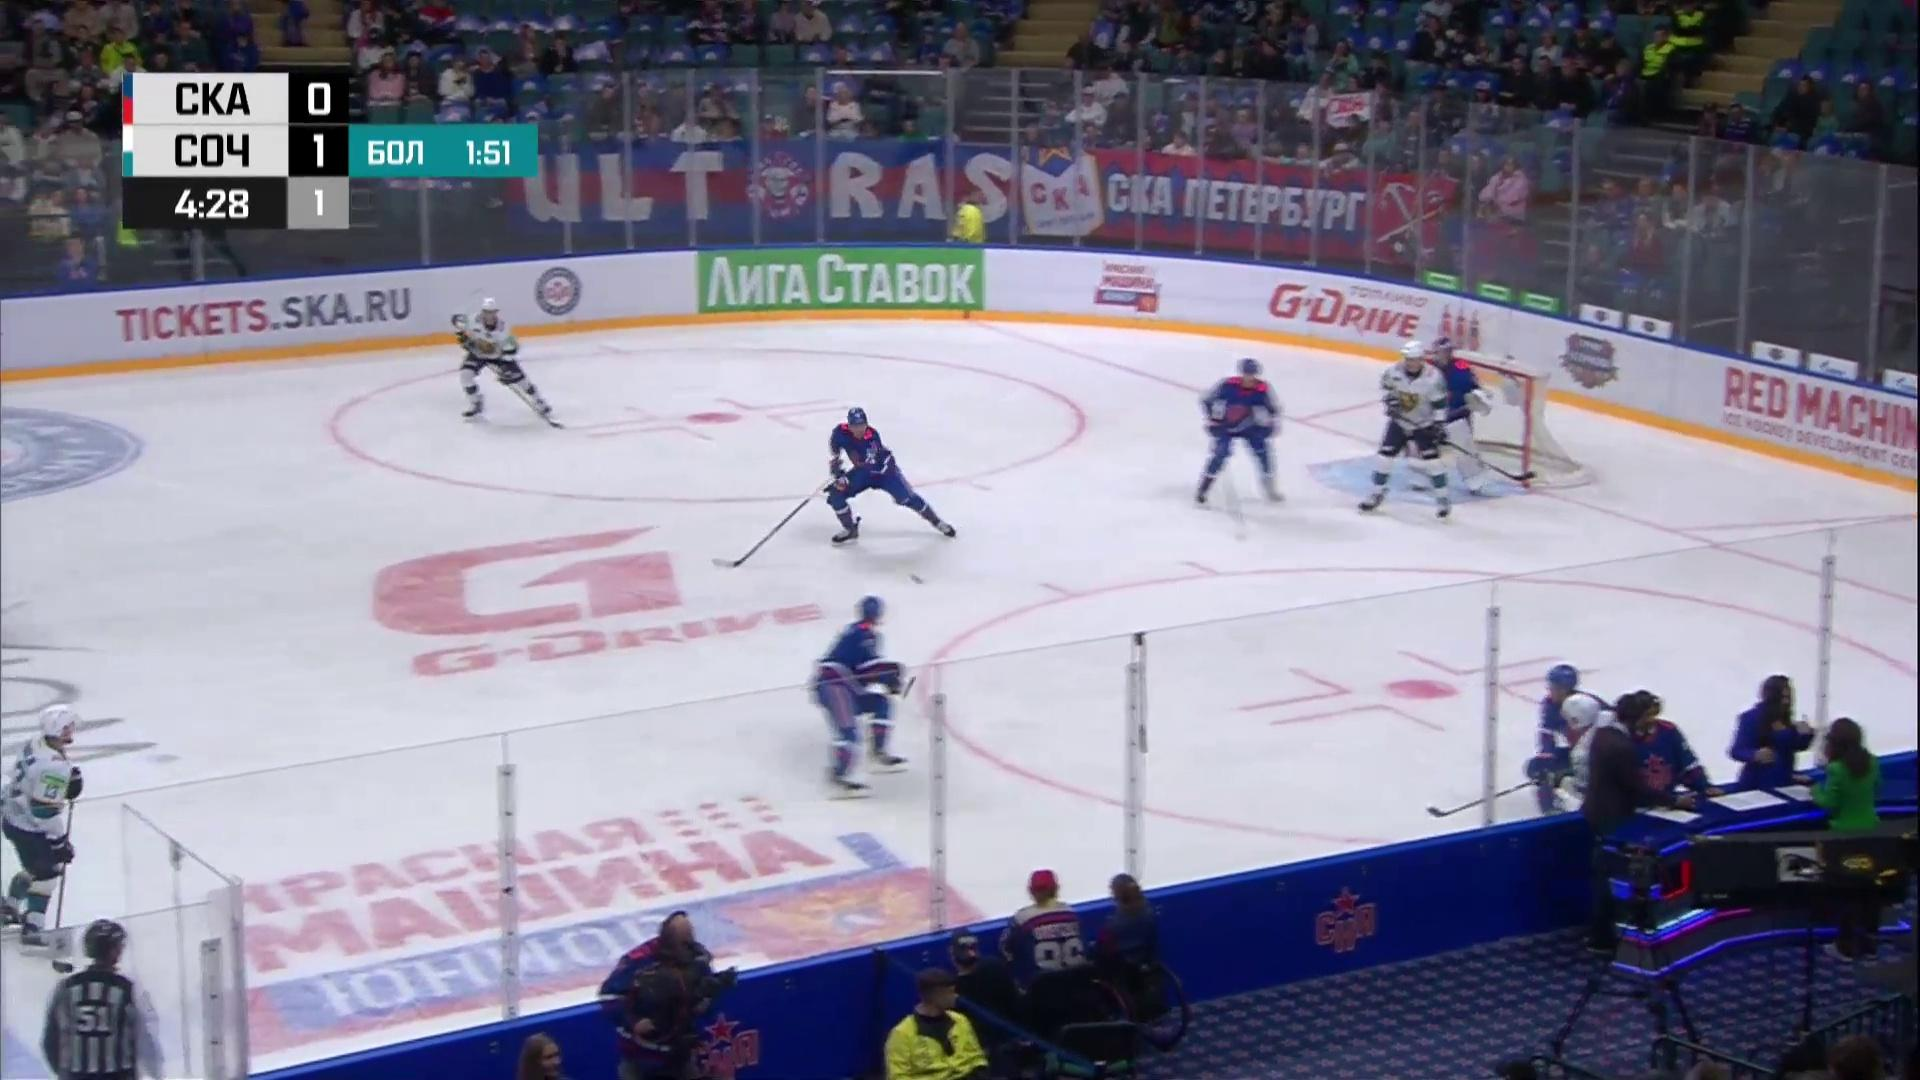ball: (910, 574, 923, 584)
